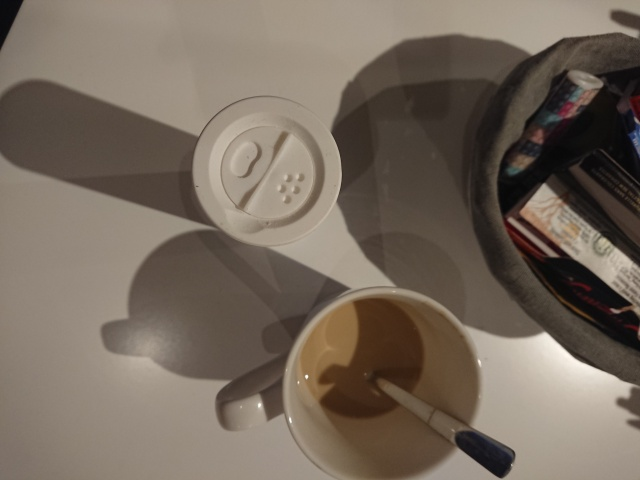Solana Pag Fine Sea Salt 250g: (188, 94, 346, 249)
